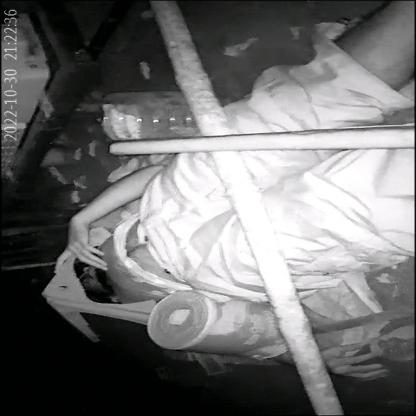hand: (36, 197, 136, 277), (315, 336, 403, 389)
